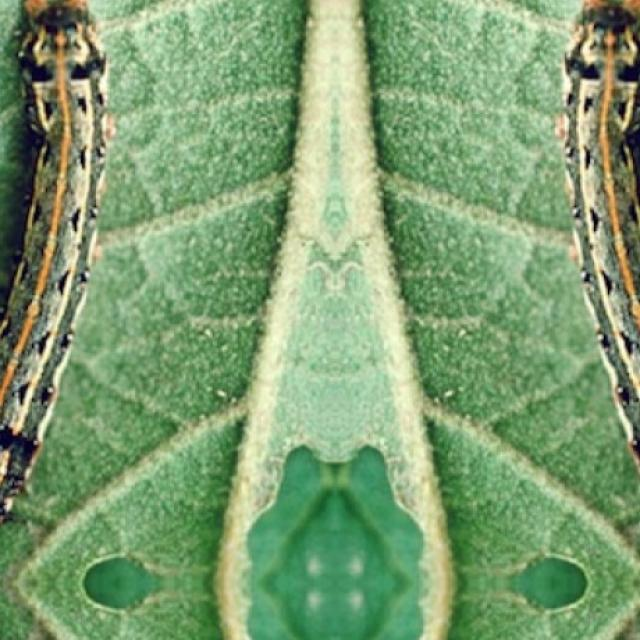armyworm: (0, 0, 114, 541), (566, 0, 640, 459)
